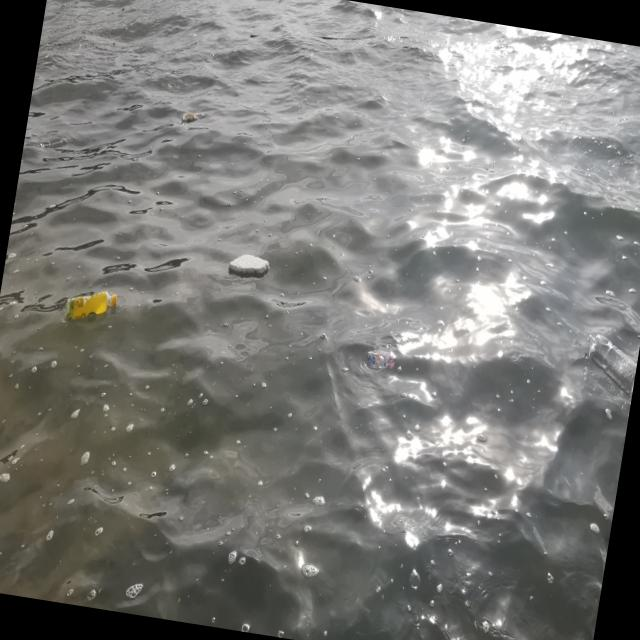foam: (229, 251, 274, 281)
plastic bottle: (581, 335, 640, 400), (63, 284, 120, 328), (181, 107, 211, 127)
